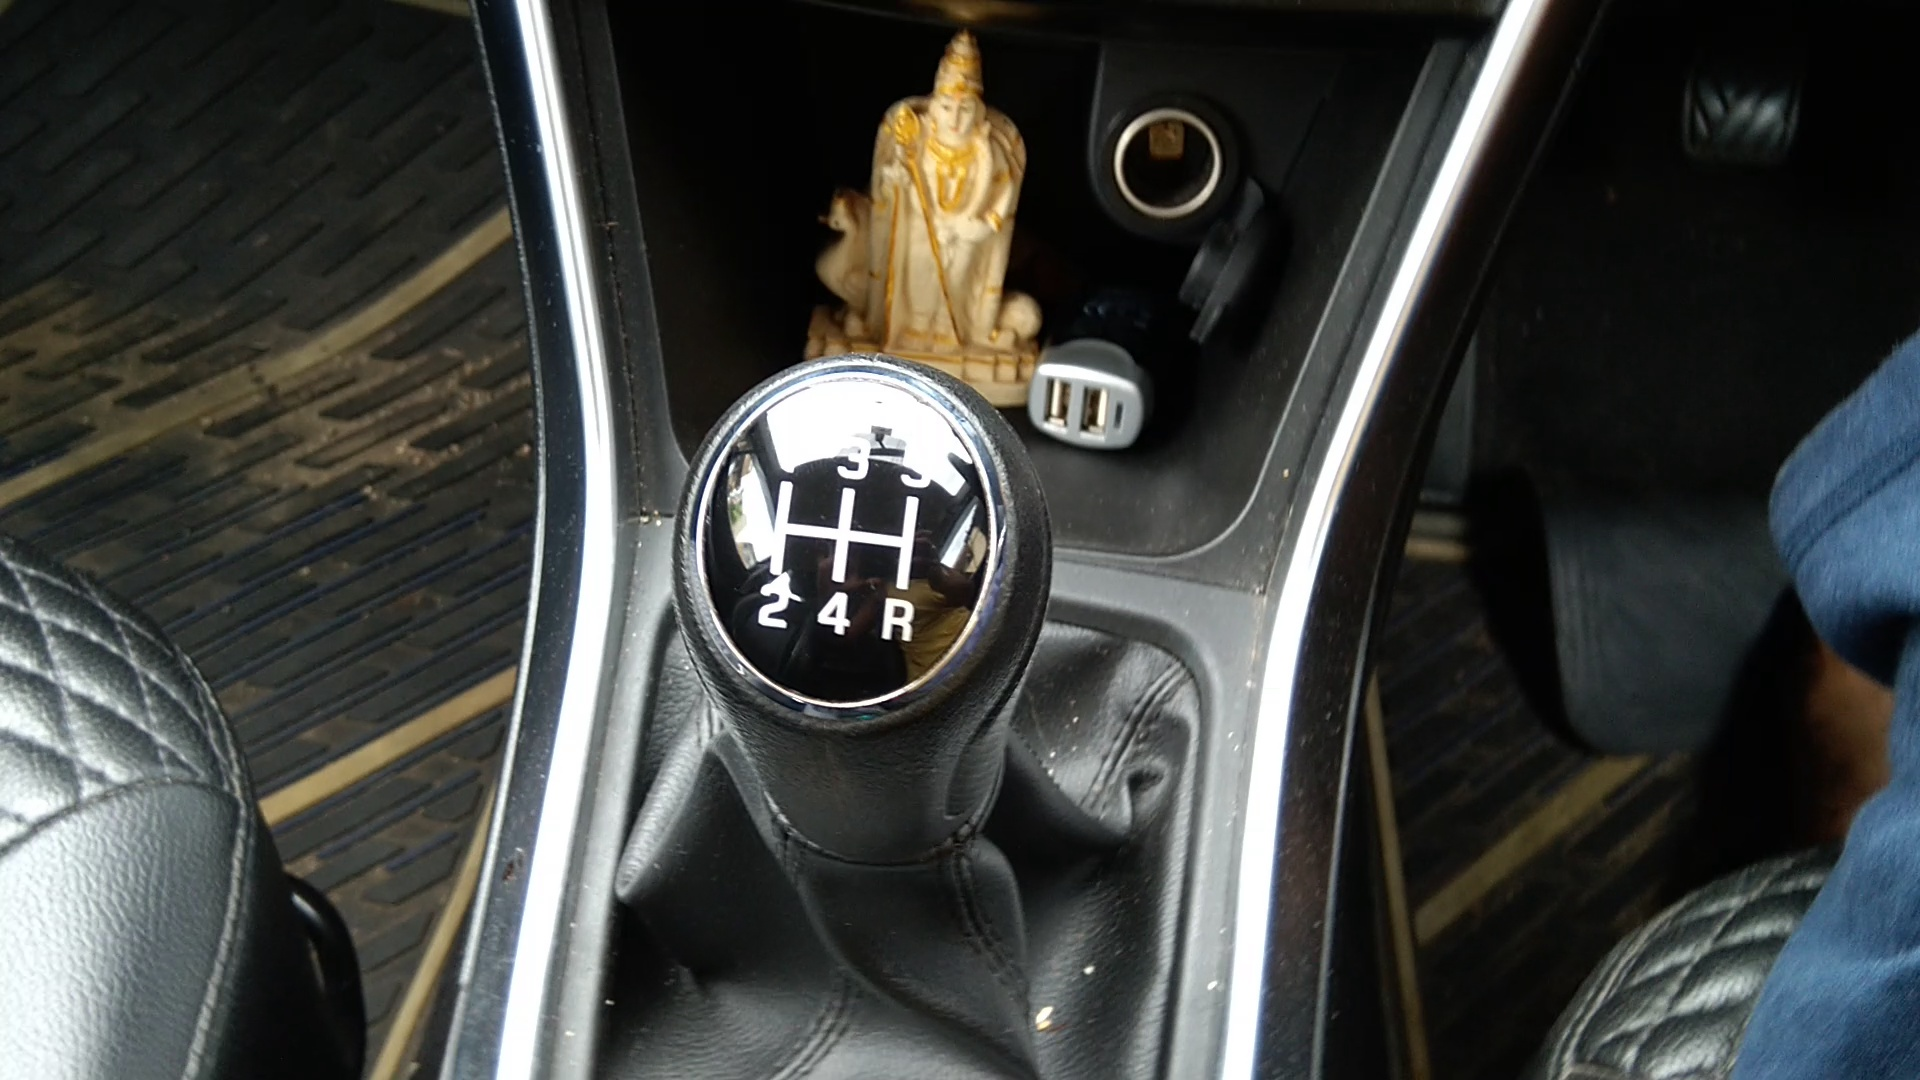manual_gear: (669, 363, 1073, 1011)
